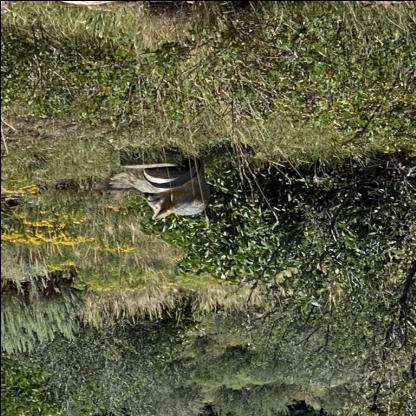zorro: (108, 143, 248, 225)
